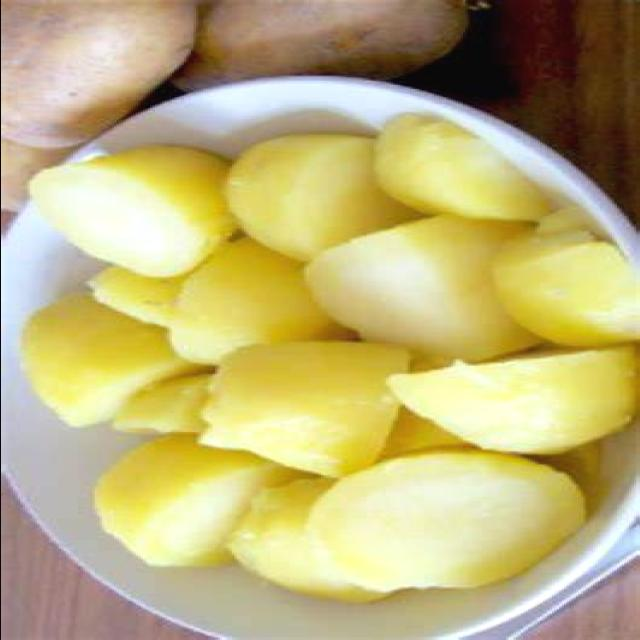kentang rebus: (306, 446, 587, 593), (202, 339, 414, 479), (29, 143, 238, 279), (387, 343, 640, 455), (94, 435, 303, 568), (221, 131, 419, 265), (19, 294, 212, 427), (491, 201, 640, 350), (373, 111, 553, 225)
